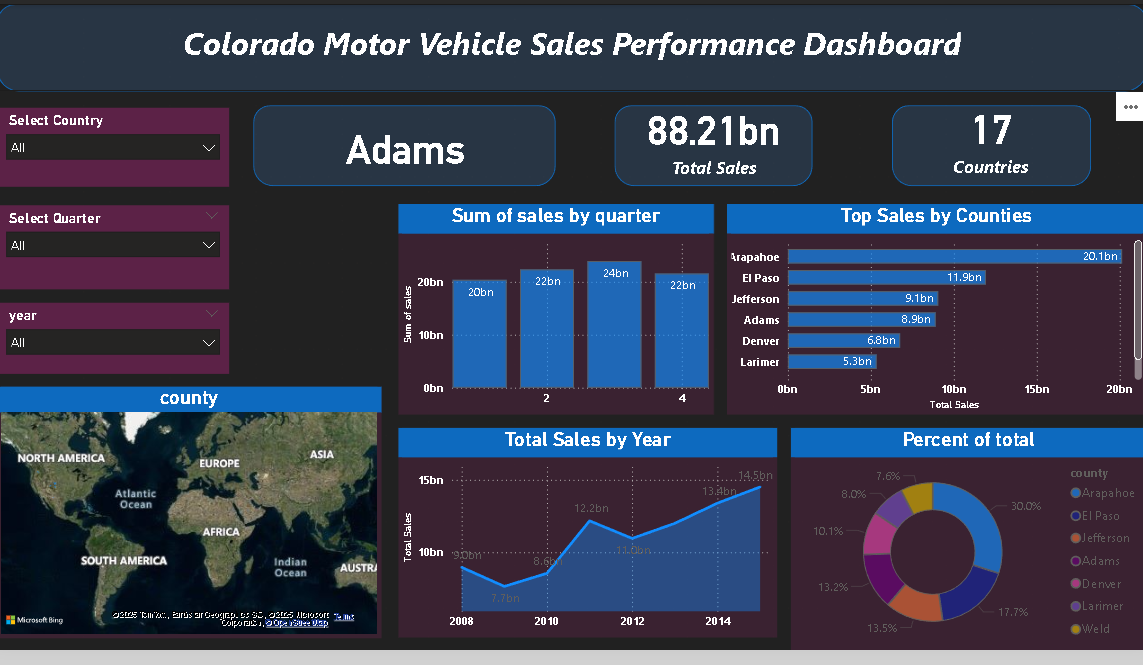

What the dashboard file says about the page in this screenshot:
{"tool":"powerbi","page":{"name":"Page 1","canvas":[1280,720],"ordinal":0},"visuals":[{"type":"shape","box":[0,0,1280,97.4],"z":0},{"type":"columnChart","fields":{"Category":["public data.quarter"],"Y":["Sum(public data.sales)"]},"box":[446.8,222.8,350.8,234.7],"z":1000},{"type":"shape","box":[285.6,112.6,336.6,90.1],"z":2000},{"type":"shape","box":[687.4,112.6,220.4,90.1],"z":3000},{"type":"shape","box":[995.6,112.6,221.6,90.1],"z":4000},{"type":"card","fields":{"Values":["Min(public data.county)"]},"box":[298.7,96,311.7,122.1],"z":5000},{"type":"slicer","fields":{"Values":["public data.year"]},"box":[0,331.9,258.4,79.4],"z":6000},{"type":"slicer","fields":{"Values":["public data.quarter"]},"box":[0,224,258.4,93.6],"z":7000},{"type":"slicer","fields":{"Values":["public data.county"]},"box":[0,115,258.4,87.7],"z":8000},{"type":"card","fields":{"Values":["public data.Total Sales"]},"box":[651.1,73.7,293.6,150.3],"z":9000},{"type":"card","fields":{"Values":["public data.Countries"]},"box":[1031.1,72.3,150.5,150.5],"z":10000},{"type":"areaChart","fields":{"Category":["public data.date.Variation.Date Hierarchy.Year"],"Y":["public data.Total Sales"]},"box":[446.8,471.7,421.9,233.5],"z":11000},{"type":"clusteredBarChart","title":"Top Sales by Counties","fields":{"Category":["public data.county"],"Y":["public data.Total Sales"]},"box":[813,222.8,467,234.7],"z":12000},{"type":"filledMap","fields":{"Category":["public data.county"]},"box":[0,425.5,427.9,279.7],"z":13000},{"type":"donutChart","title":"Percent of total","fields":{"Category":["public data.county"],"Y":["public data.Sales % of Total (All Counties)"]},"box":[883.5,471.7,396.5,249],"z":14000}]}

Visuals, with their boxes on the page's 1280x720 design canvas (x1, y1, x2, y2). These are canvas units, not pixel positions in the 1143x665 screenshot, which may show the page scaled, cropped or inside an application window:
shape: crop(0, 0, 1280, 97)
columnChart - public data.quarter x Sum(public data.sales): crop(447, 223, 798, 458)
shape: crop(286, 113, 622, 203)
shape: crop(687, 113, 908, 203)
shape: crop(996, 113, 1217, 203)
card - Min(public data.county): crop(299, 96, 610, 218)
slicer - public data.year: crop(0, 332, 258, 411)
slicer - public data.quarter: crop(0, 224, 258, 318)
slicer - public data.county: crop(0, 115, 258, 203)
card - public data.Total Sales: crop(651, 74, 945, 224)
card - public data.Countries: crop(1031, 72, 1182, 223)
areaChart - public data.date.Variation.Date Hierarchy.Year x public data.Total Sales: crop(447, 472, 869, 705)
"Top Sales by Counties" clusteredBarChart: crop(813, 223, 1280, 458)
filledMap - public data.county: crop(0, 426, 428, 705)
"Percent of total" donutChart: crop(884, 472, 1280, 721)
